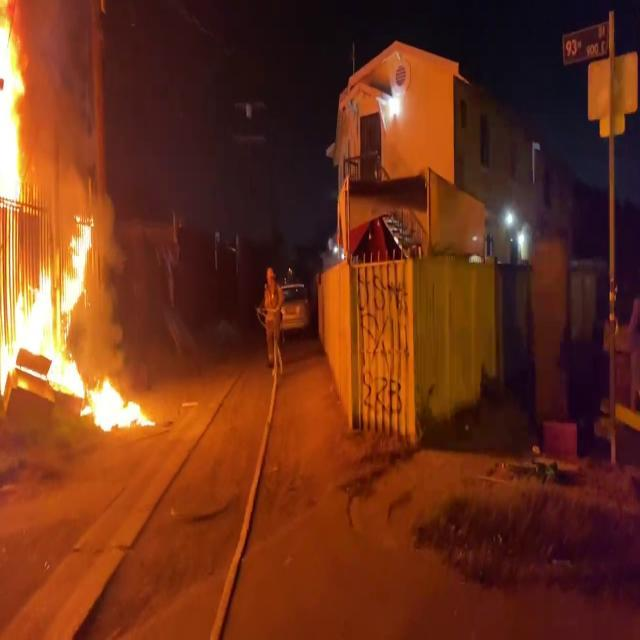Fire: (0, 210, 152, 440), (0, 2, 32, 212)
